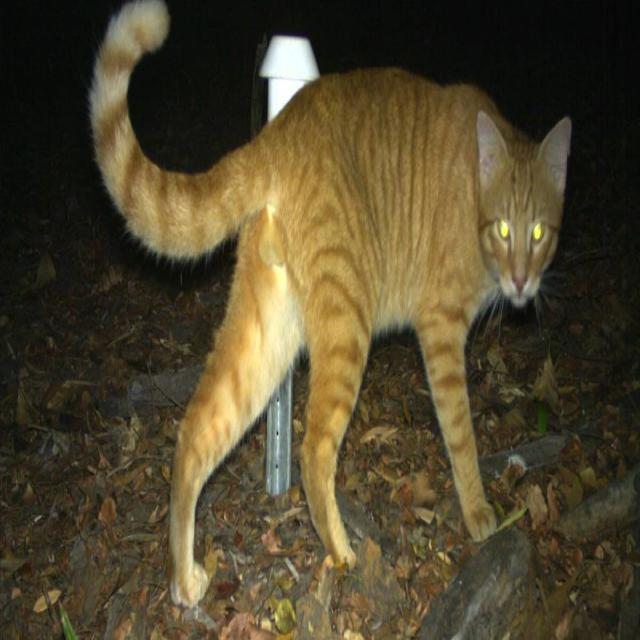cat: (90, 3, 570, 604)
